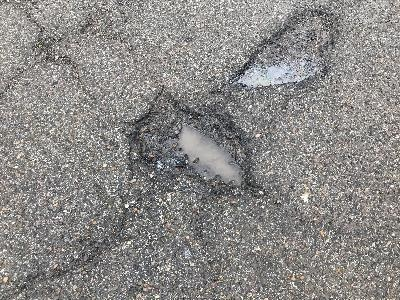pothole: (123, 83, 262, 198), (229, 4, 342, 89)
